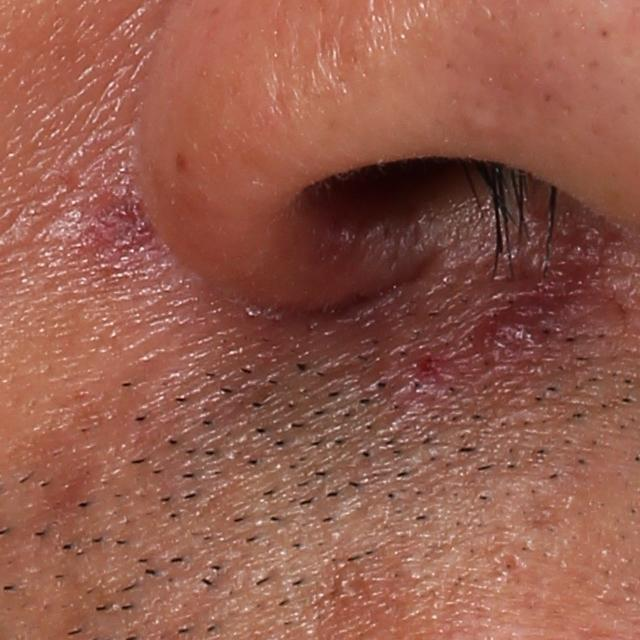papule: (472, 303, 546, 364)
